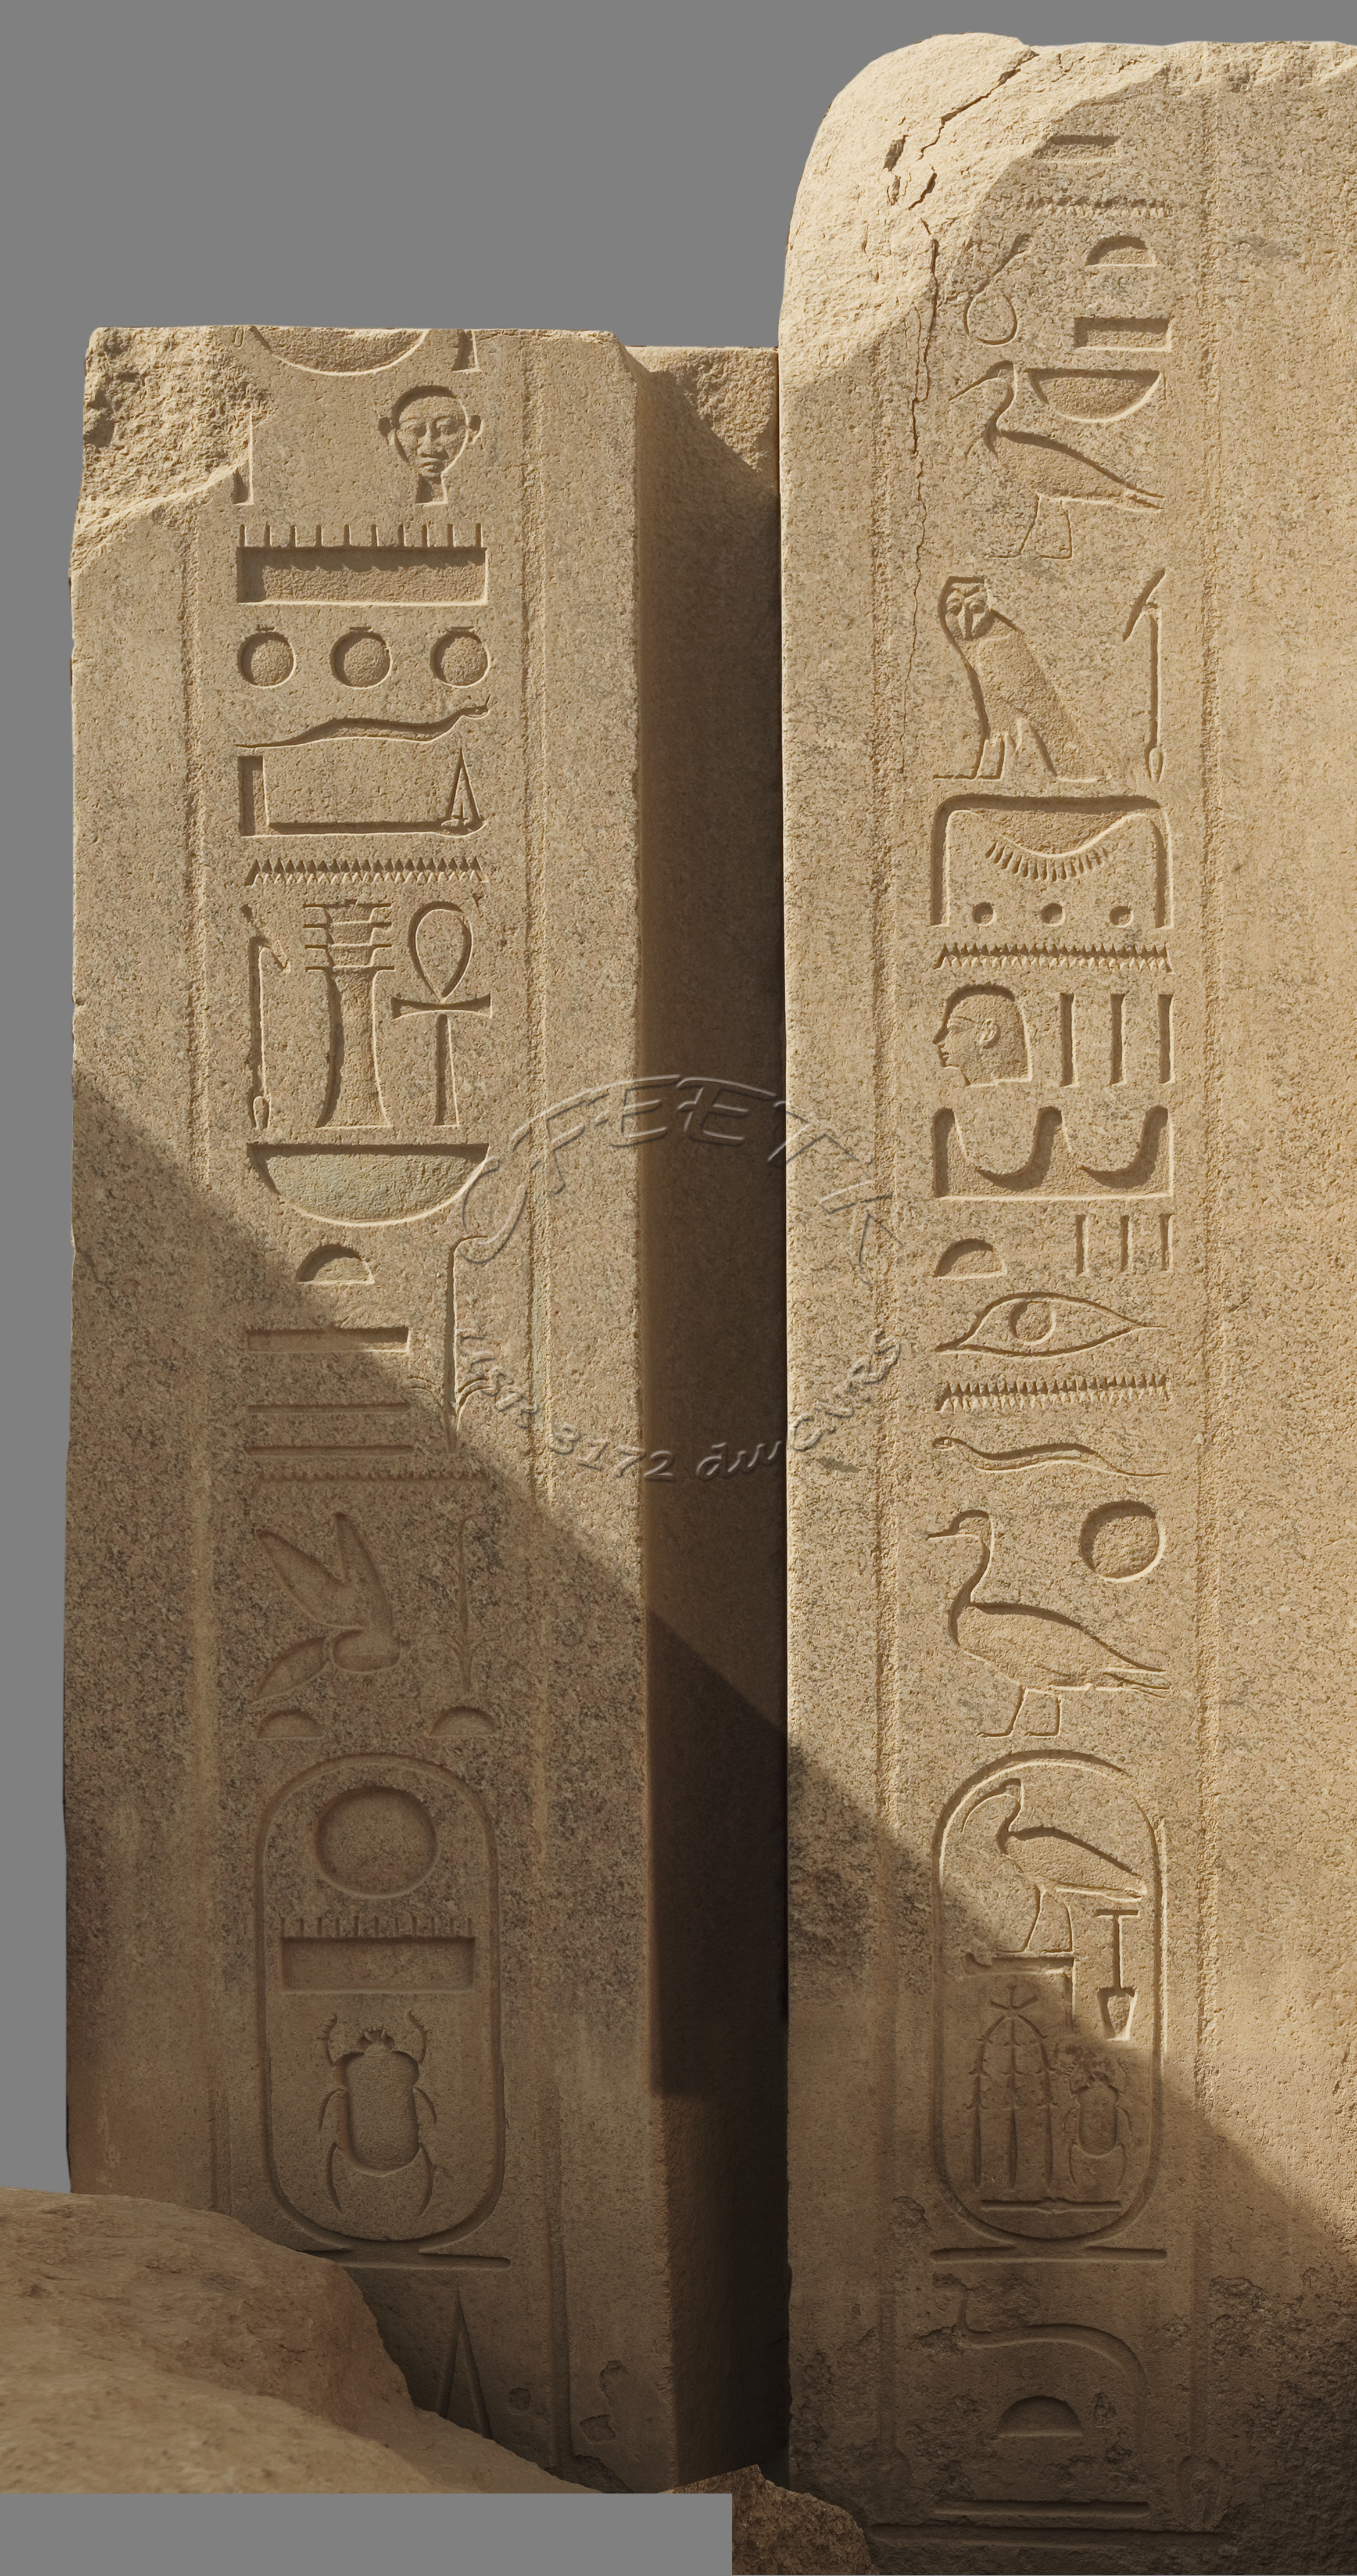D4: (917, 1278, 1175, 1365)
F35: (1084, 1900, 1147, 2041)
G43: (922, 566, 1140, 792)
I10: (914, 2268, 1161, 2455)
N35: (235, 1450, 505, 1511), (917, 930, 1183, 990), (232, 843, 501, 896), (927, 1377, 1187, 1416), (1019, 181, 1180, 237)
V30: (232, 1126, 501, 1233), (1025, 354, 1168, 426)
